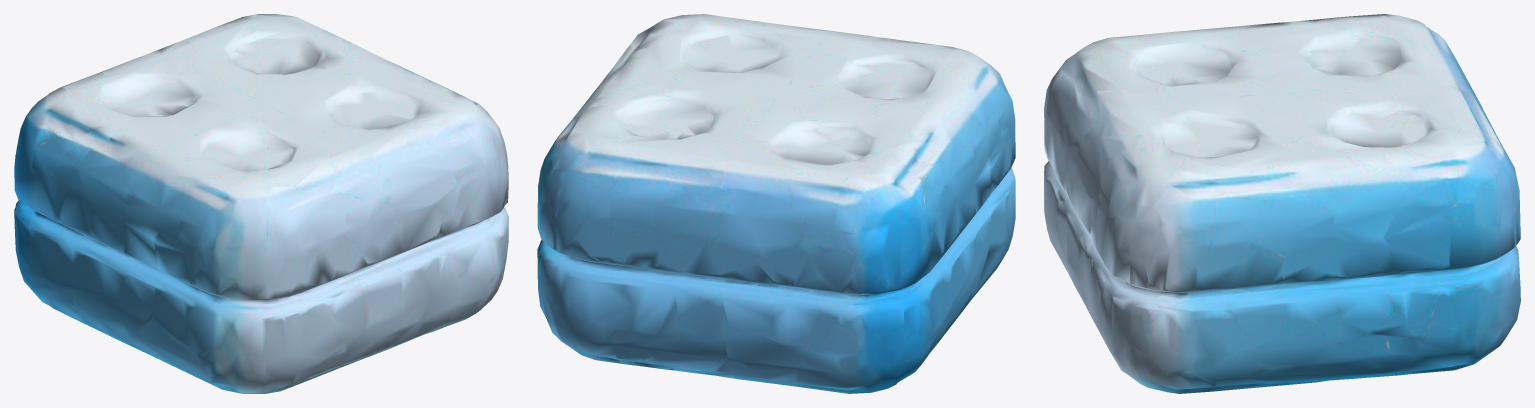
Rendered from blue_2x2_block_mobile_lod1.glb.
3 views of the same model, side by side, from view 1: azimuth 30°, elevation 25°; view 2: azimuth 150°, elevation 25°; view 3: azimuth 270°, elevation 25° (orthographic). The views are drawn at different scales.
Size of the model in its own units: 1.86 by 0.9653 by 1.9.
1 material, 1 textured.
